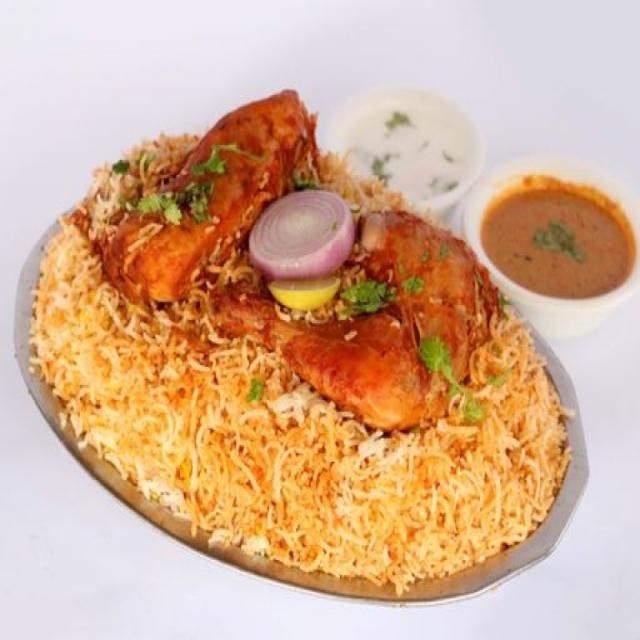Biryani: (29, 94, 574, 577)
